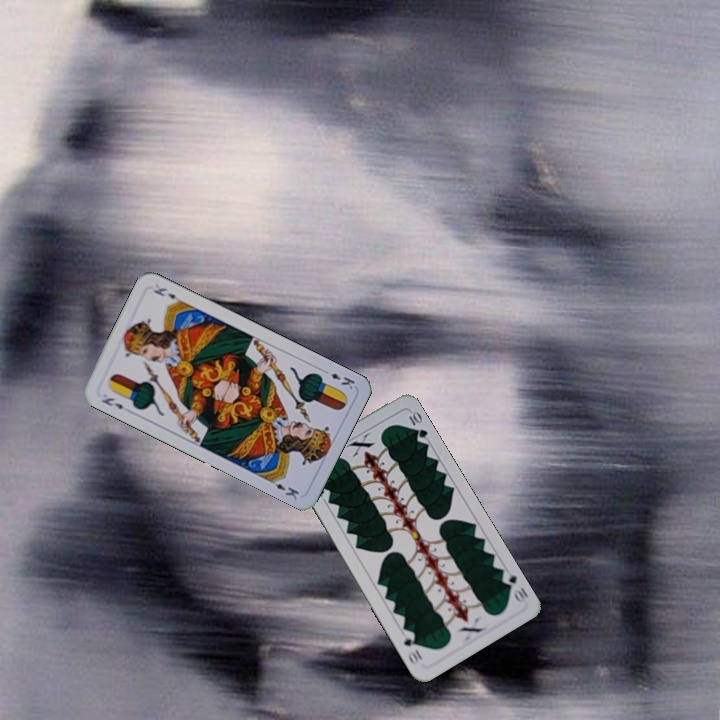EK: (318, 365, 358, 392), (97, 394, 126, 412)
G10: (497, 567, 531, 606)
